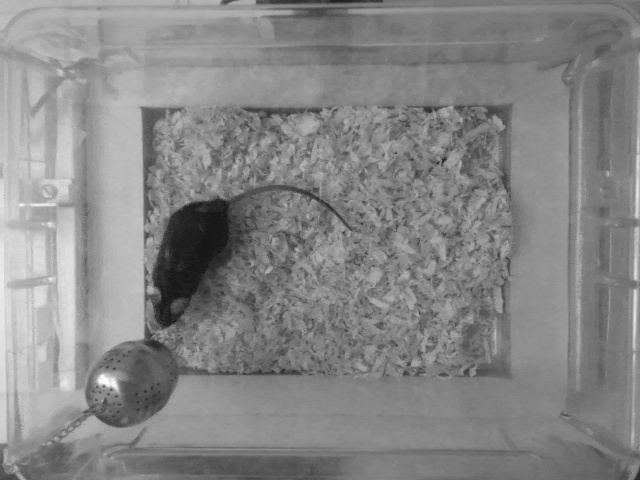mice: (147, 183, 351, 333)
